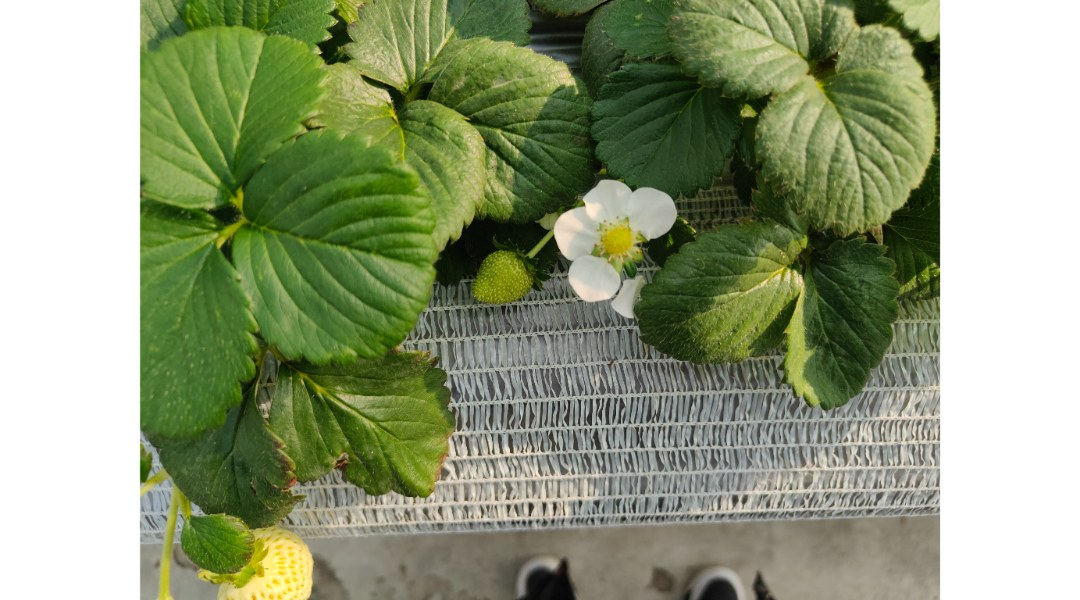berry: (208, 516, 328, 600), (466, 242, 530, 309)
flower: (544, 160, 678, 327)
strain: (523, 225, 556, 266)
